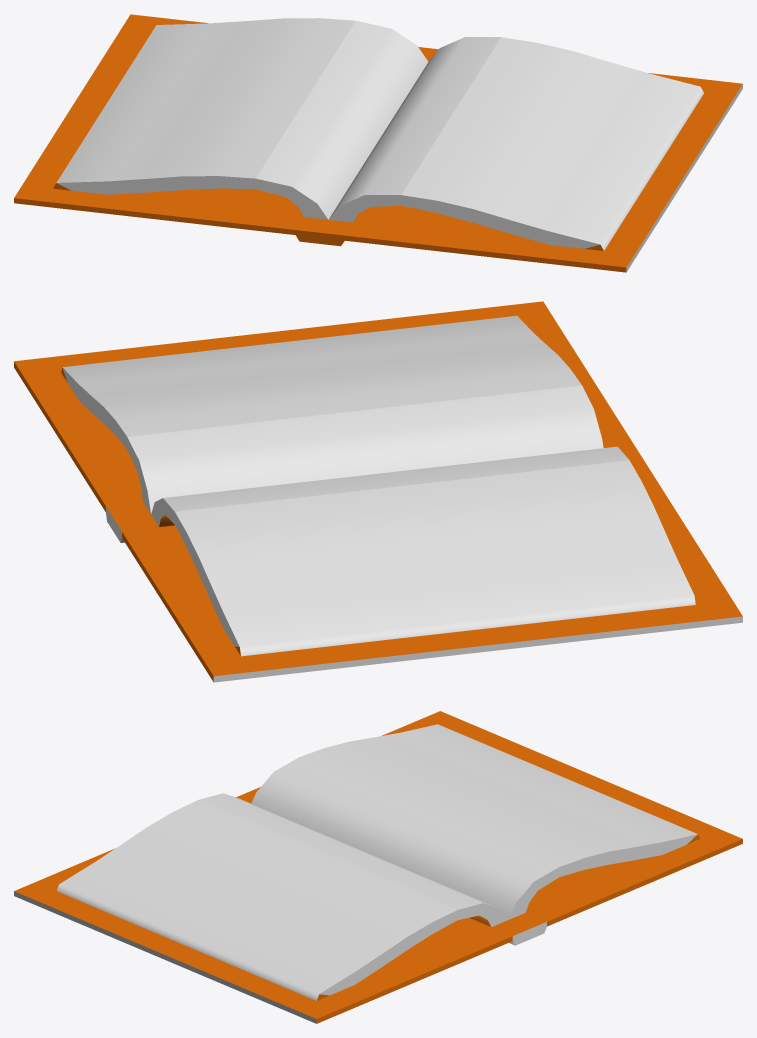
The model's file is book open.fbx.
3 renders of one model, top to bottom at view 1: azimuth 30°, elevation 25°; view 2: azimuth 150°, elevation 25°; view 3: azimuth 270°, elevation 25°, orthographic. The views are drawn at different scales.
Parts seen in each view (by area): view 1: Cube.001; view 2: Cube.001; view 3: Cube.001.
Part boxes in pixels (bbox=[...]): Cube.001: bbox=[14, 14, 742, 272]; Cube.001: bbox=[14, 301, 742, 682]; Cube.001: bbox=[14, 711, 742, 1023].
Size of the model in its own units: 662 by 42.12 by 662.
